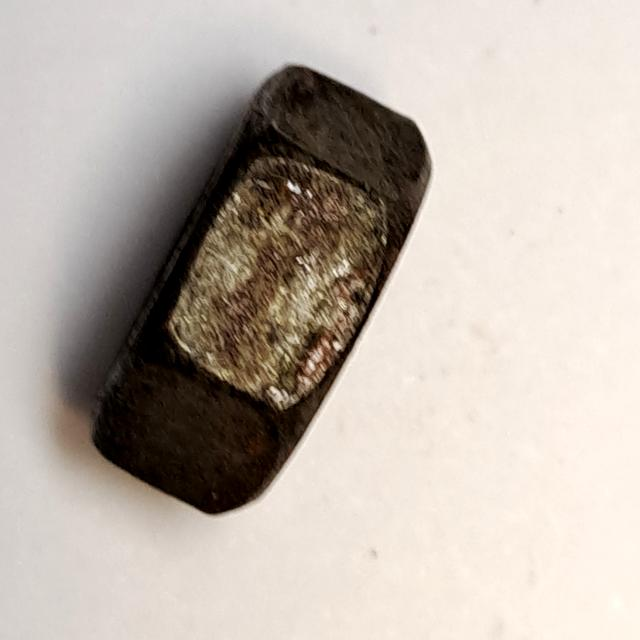Side_Rust: (83, 55, 439, 533)
